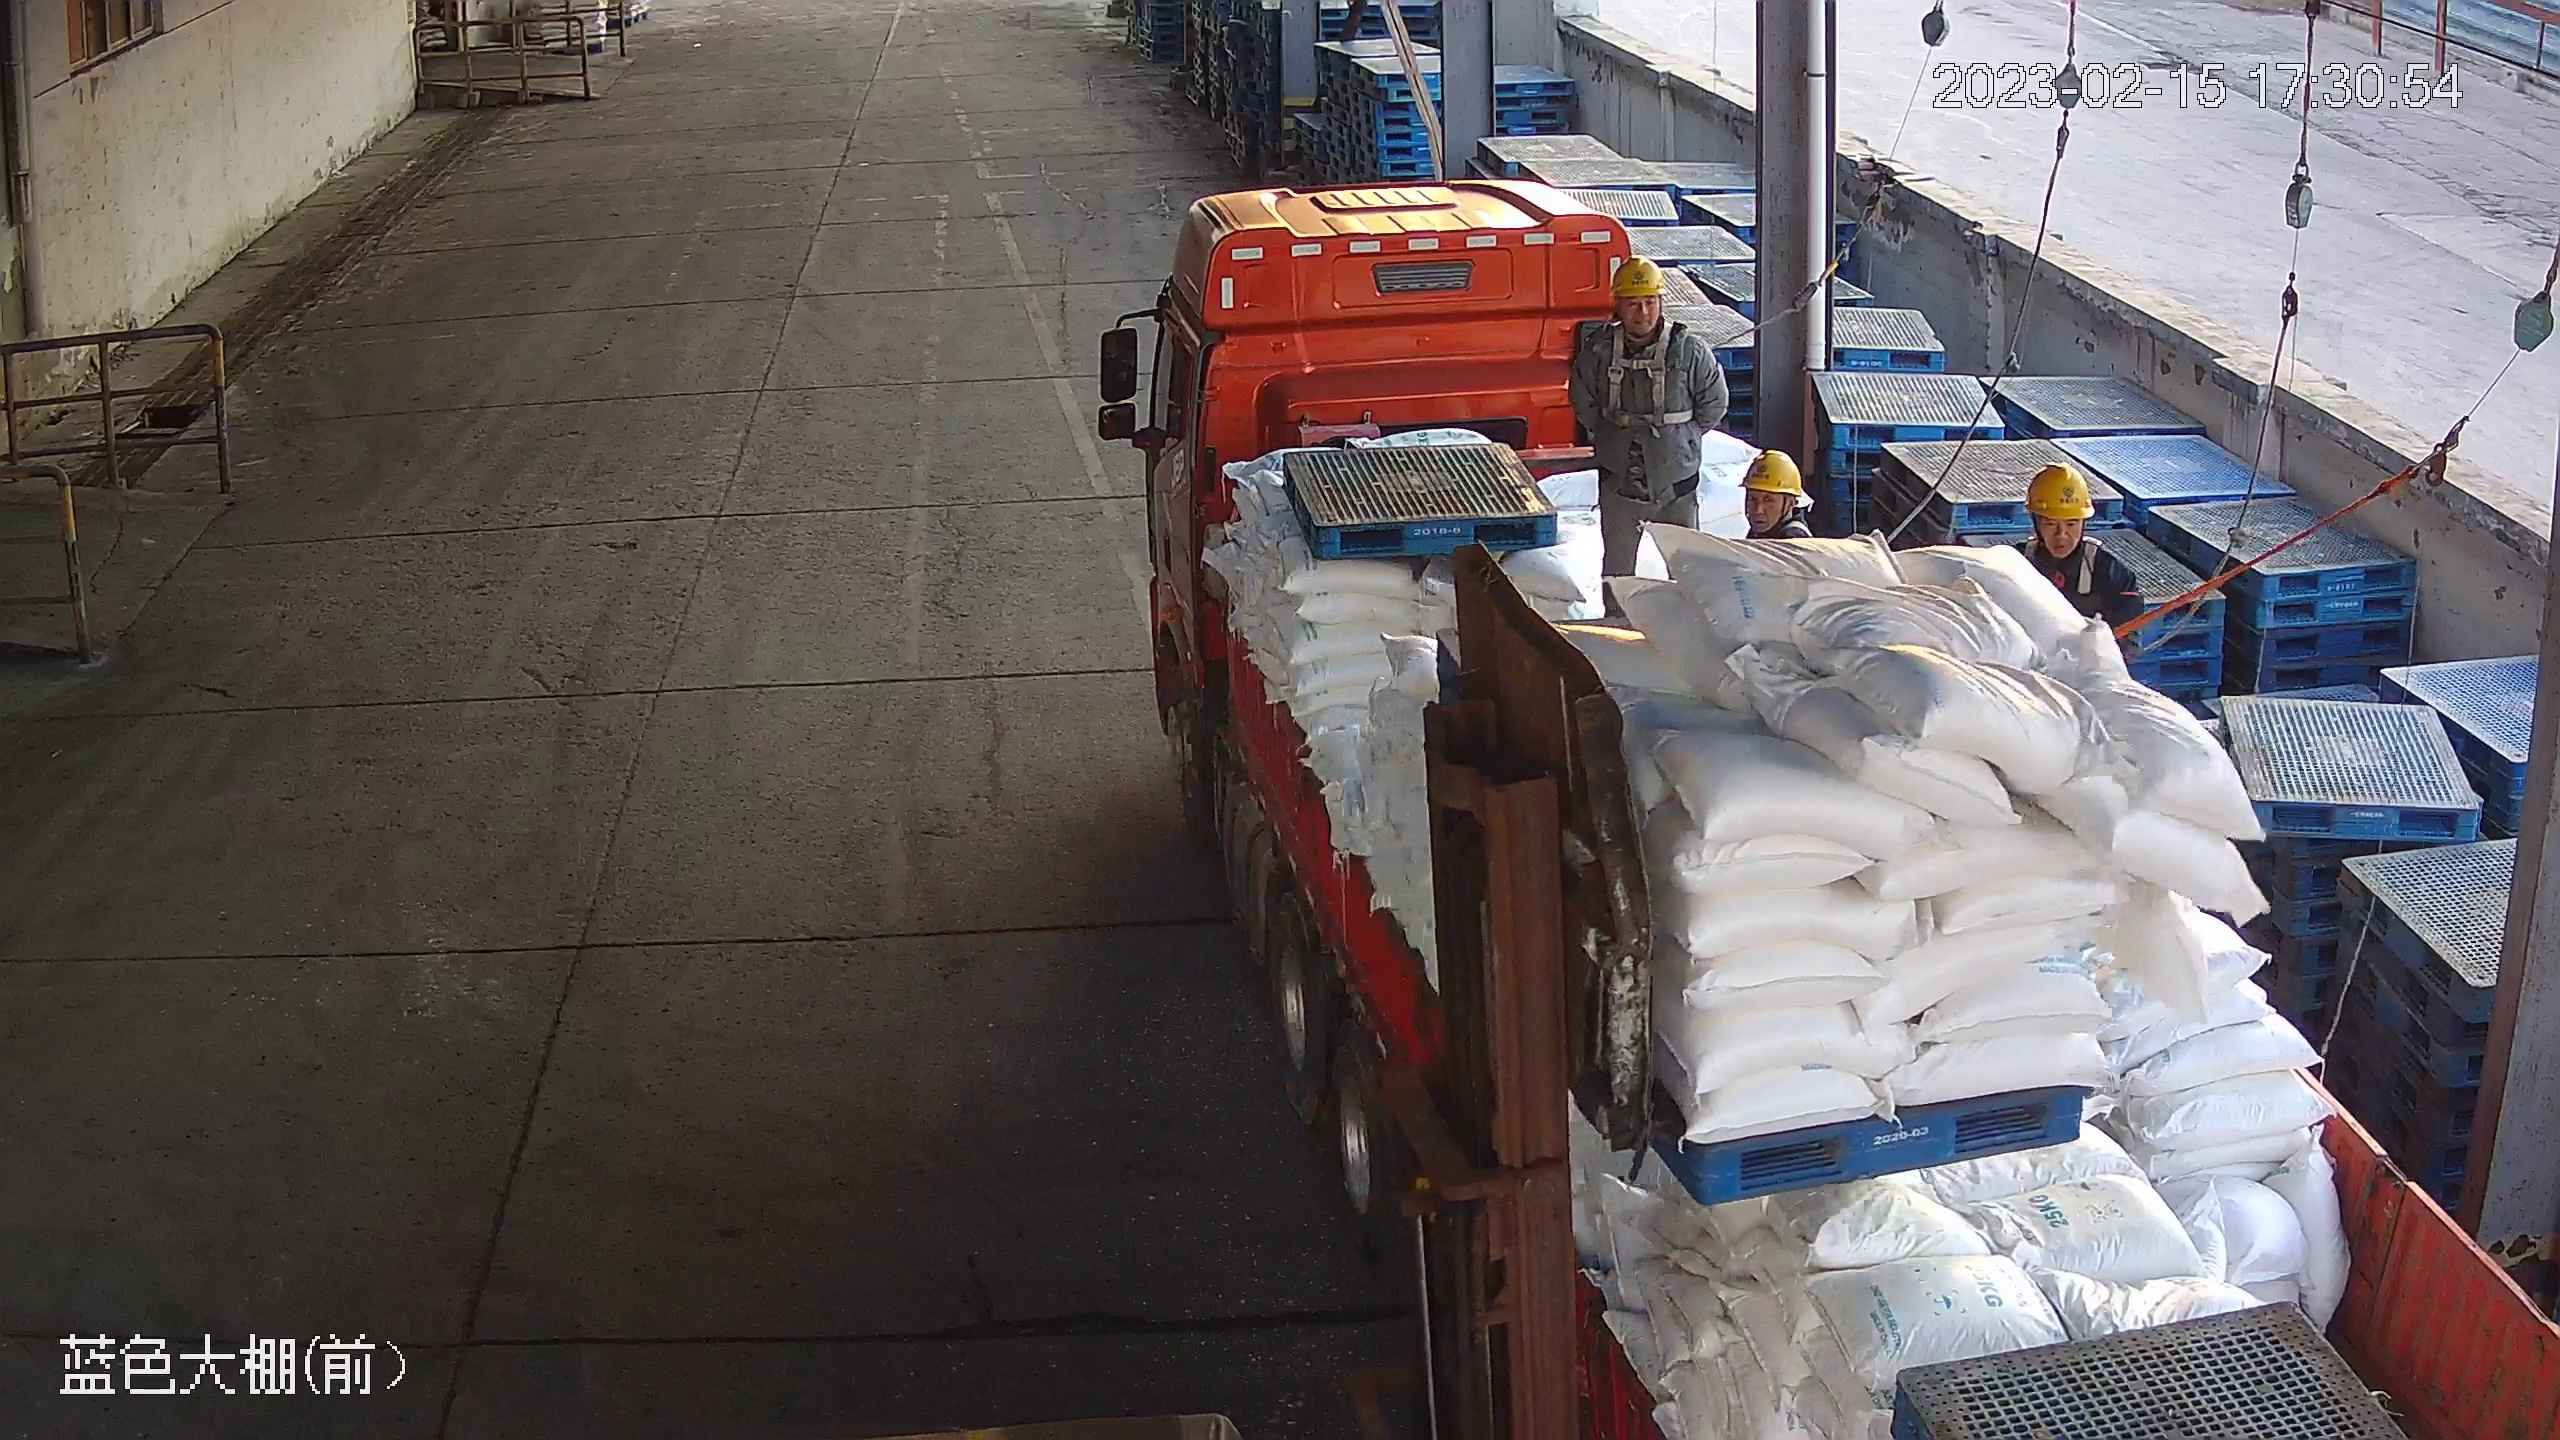belt: (1600, 318, 1729, 426), (2022, 537, 2130, 600)
head: (1575, 254, 1717, 357)
helmet: (2024, 461, 2097, 522), (1737, 449, 1806, 498), (1609, 253, 1670, 298)
people: (1566, 253, 1730, 625)
truck: (1146, 175, 2560, 1440)
